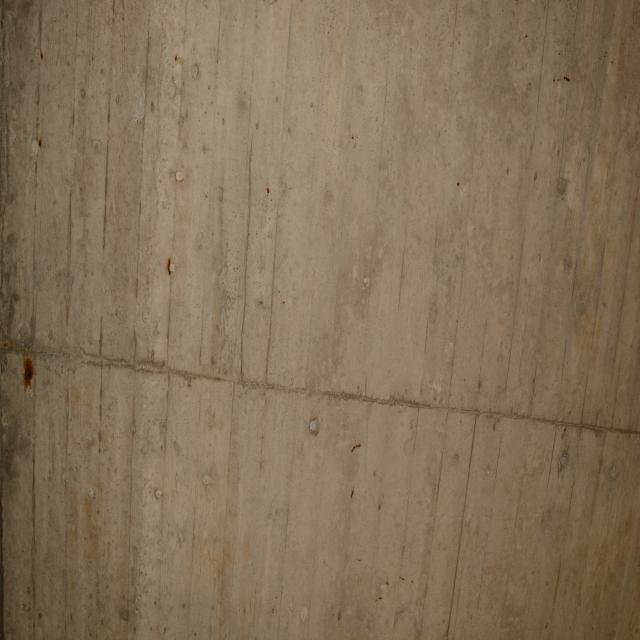corrosion: (18, 348, 37, 397), (162, 252, 179, 279), (552, 72, 572, 85), (602, 51, 615, 65), (350, 442, 362, 456), (349, 484, 355, 502), (265, 185, 271, 196), (37, 139, 43, 148), (523, 32, 529, 40), (40, 50, 44, 62), (456, 180, 460, 188), (174, 56, 179, 62), (282, 300, 286, 306), (558, 52, 561, 56)
